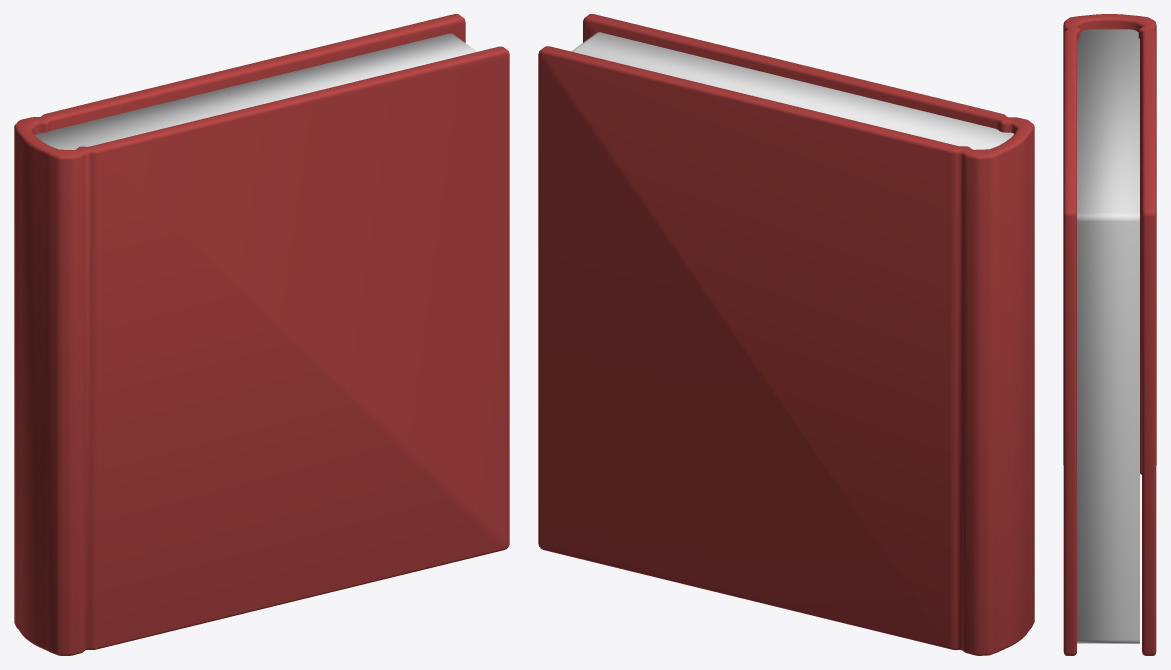
Rendered from book_red.fbx.
The picture shows the model from 3 angles, left to right: view 1: azimuth 30°, elevation 25°; view 2: azimuth 150°, elevation 25°; view 3: azimuth 270°, elevation 25°; orthographic projection. The views are drawn at different scales.
Parts seen in each view (by area): view 1: Cube.007; view 2: Cube.007; view 3: Cube.007.
Boxes of the visible parts, <box> form: Cube.007: <box>14,14,509,655</box>; Cube.007: <box>538,14,1034,655</box>; Cube.007: <box>1063,14,1156,655</box>.
Bounding box in the file's own units: 313 × 327 × 61.89.
